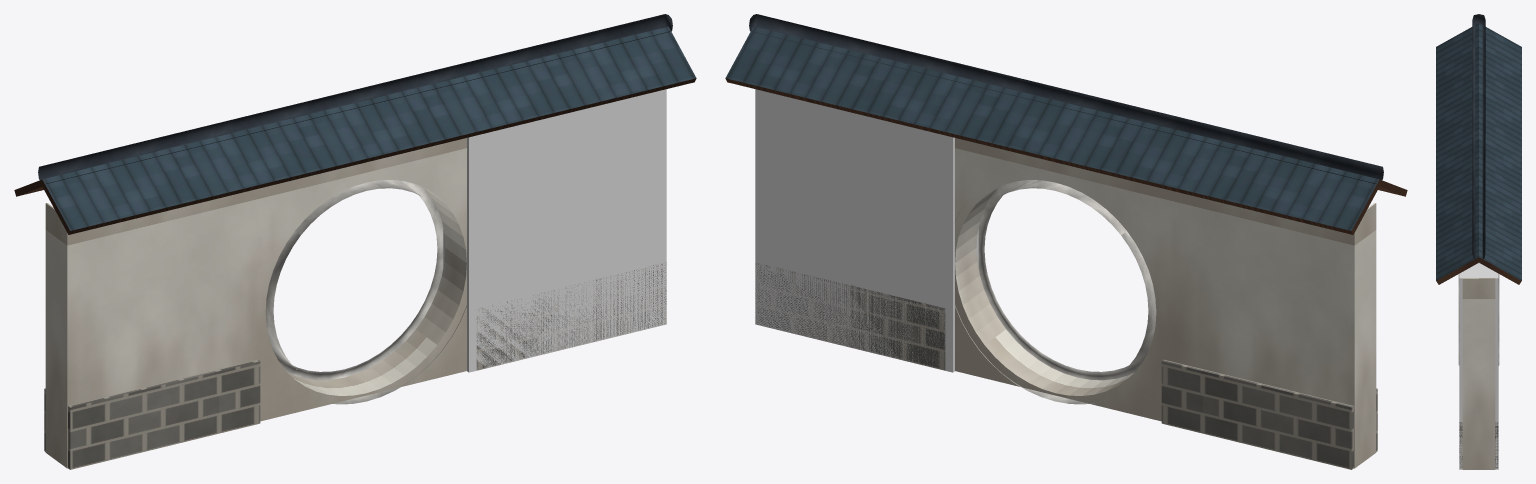
File: moon_gate_wall.glb
3 renders of one model, left to right at view 1: azimuth 30°, elevation 25°; view 2: azimuth 150°, elevation 25°; view 3: azimuth 270°, elevation 25°, orthographic. The views are drawn at different scales.
Parts seen in each view (by area): view 1: WallBody, WallCol-convcolonly.001, WallCoping, WallPlinth, WallRidge, MoonGateRing; view 2: WallBody, WallCol-convcolonly.001, WallCoping, WallPlinth, WallRidge, MoonGateRing; view 3: WallCoping, WallBody, WallRidge, WallCol-convcolonly.001, MoonGateRing, WallPlinth.
Boxes of the visible parts, x1=… form: WallBody: x1=45, y1=138, x2=466, y2=468; WallCol-convcolonly.001: x1=443, y1=89, x2=666, y2=372; WallCoping: x1=14, y1=26, x2=696, y2=234; WallPlinth: x1=44, y1=262, x2=666, y2=469; WallRidge: x1=38, y1=14, x2=672, y2=183; MoonGateRing: x1=265, y1=180, x2=467, y2=404; WallBody: x1=955, y1=138, x2=1376, y2=468; WallCol-convcolonly.001: x1=755, y1=89, x2=978, y2=372; WallCoping: x1=725, y1=26, x2=1407, y2=234; WallPlinth: x1=755, y1=263, x2=1377, y2=469; WallRidge: x1=749, y1=14, x2=1383, y2=183; MoonGateRing: x1=954, y1=180, x2=1156, y2=404; WallCoping: x1=1436, y1=23, x2=1521, y2=284; WallBody: x1=1462, y1=278, x2=1495, y2=469; WallRidge: x1=1472, y1=14, x2=1485, y2=258; WallCol-convcolonly.001: x1=1459, y1=263, x2=1498, y2=469; MoonGateRing: x1=1458, y1=274, x2=1499, y2=365; WallPlinth: x1=1459, y1=422, x2=1498, y2=469.
Size of what is drawn, in the model's own units: 8.4 by 3.89 by 1.3.
Materials: 6 (6 with a texture image).
